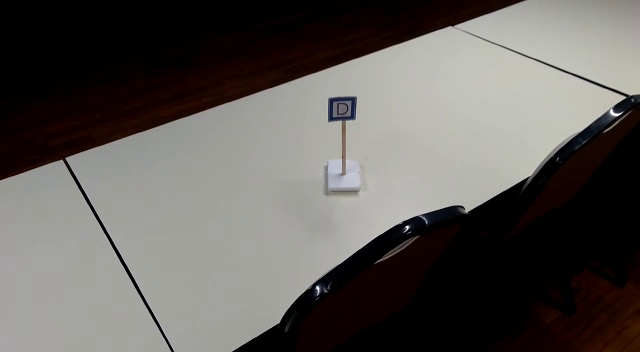durak: (327, 96, 356, 120)
